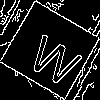W: (25, 25, 88, 89)
